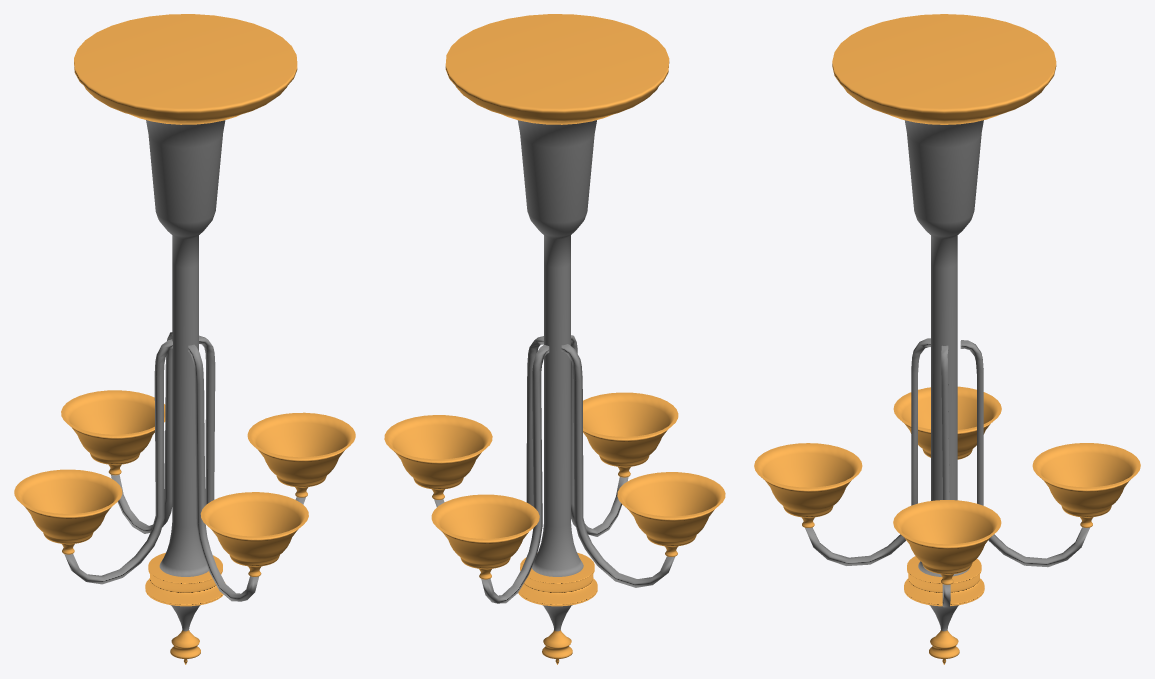
Rendered from chandelier.fbx.
The picture shows the model from 3 angles, left to right: view 1: azimuth 30°, elevation 25°; view 2: azimuth 150°, elevation 25°; view 3: azimuth 270°, elevation 25°; orthographic projection.
Visible parts, largest first — view 1: Cylinder; view 2: Cylinder; view 3: Cylinder.
Boxes of the visible parts, bbox=[...] form: Cylinder: bbox=[14, 14, 355, 664]; Cylinder: bbox=[384, 14, 725, 664]; Cylinder: bbox=[754, 14, 1140, 664].
Bounding box in the file's own units: 734 × 717 × 1264.
